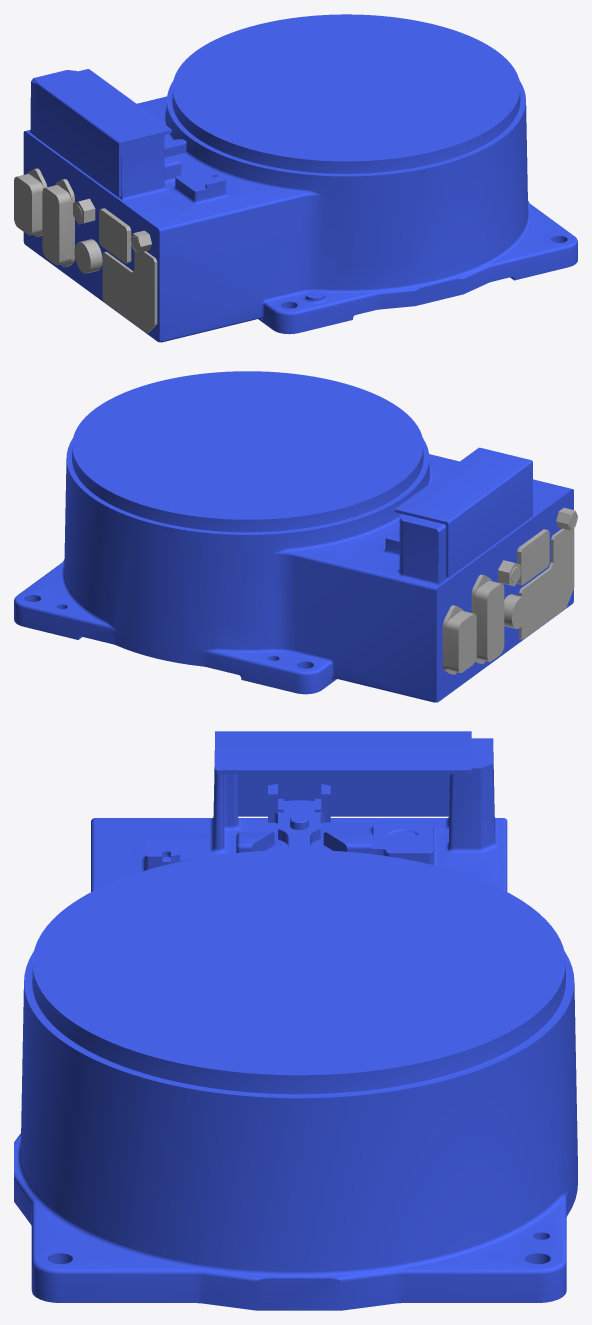
3 views of the same model, one above another, from view 1: azimuth 30°, elevation 25°; view 2: azimuth 150°, elevation 25°; view 3: azimuth 270°, elevation 25° (orthographic). The views are drawn at different scales.
Visible parts, largest first — view 1: Base_Axis; view 2: Base_Axis; view 3: Base_Axis.
Boxes of the visible parts, x1,y1,x2,y2 form: Base_Axis: (14,14,577,342); Base_Axis: (14,371,577,702); Base_Axis: (14,731,577,1310).
Bounding box in the file's own units: 0.5357 × 0.3955 × 0.2082.
